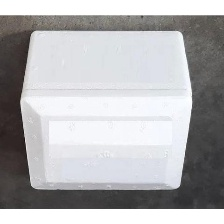foam_box: (13, 22, 198, 198)
